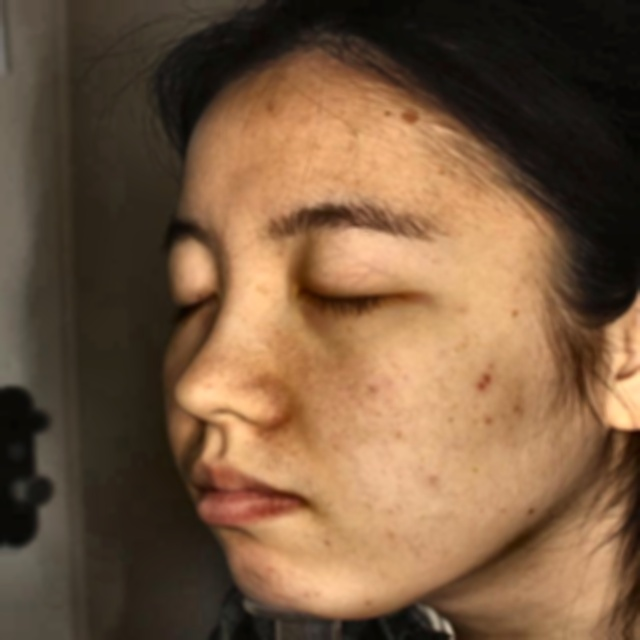comedone: (476, 369, 499, 399)
